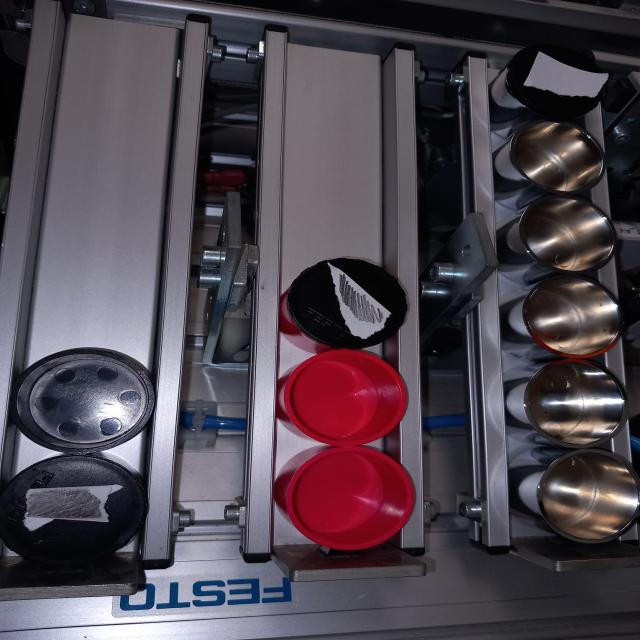NoLid: (5, 346, 165, 451), (284, 446, 417, 543), (279, 348, 411, 445), (510, 448, 632, 550), (505, 362, 628, 446), (490, 113, 617, 194), (507, 192, 623, 279), (514, 278, 632, 360)
